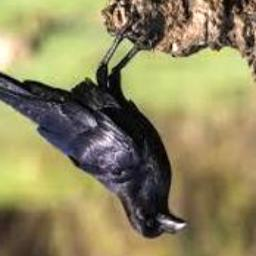Crow: (0, 19, 190, 240)
